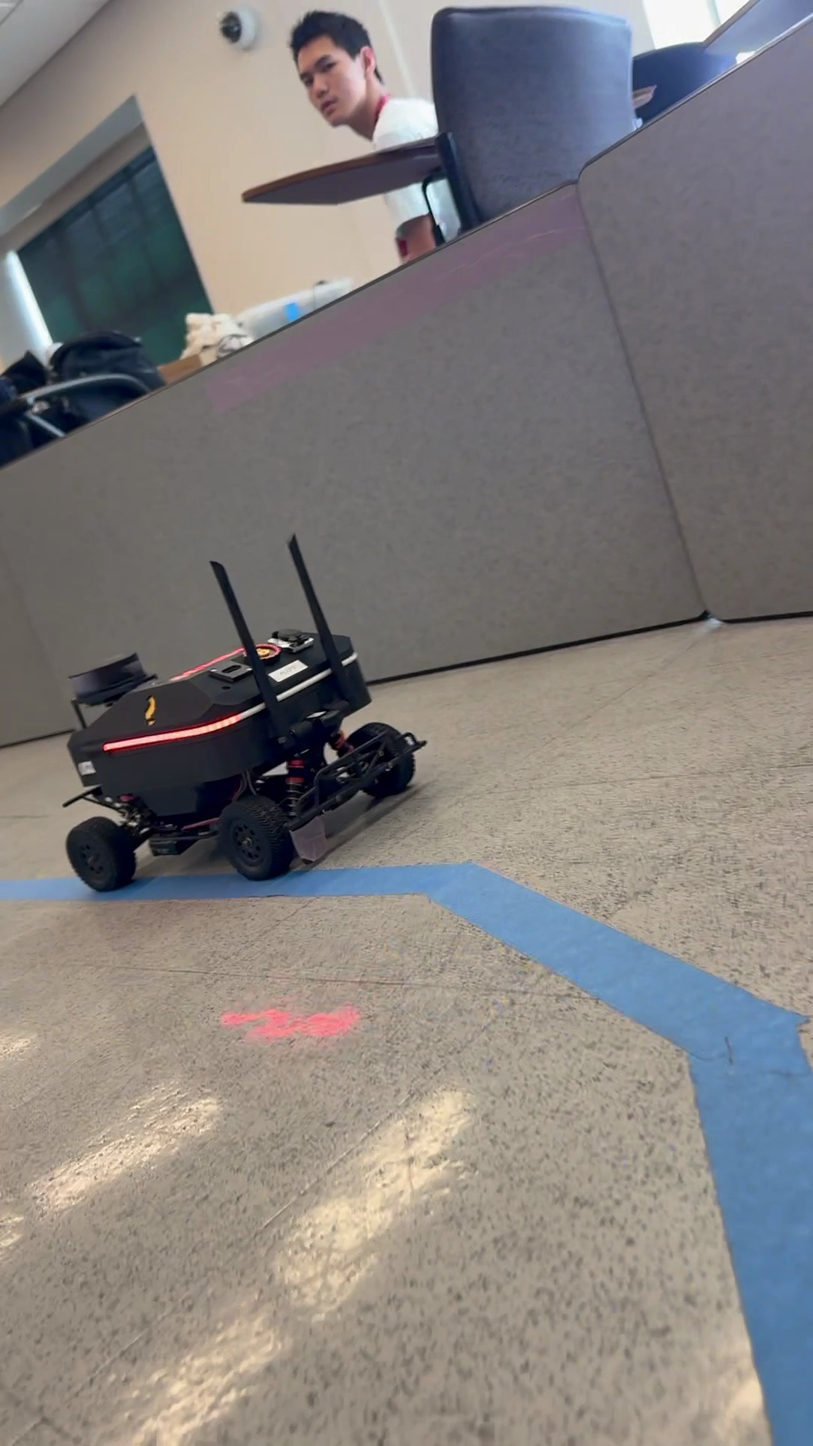racecar: (59, 534, 426, 893)
